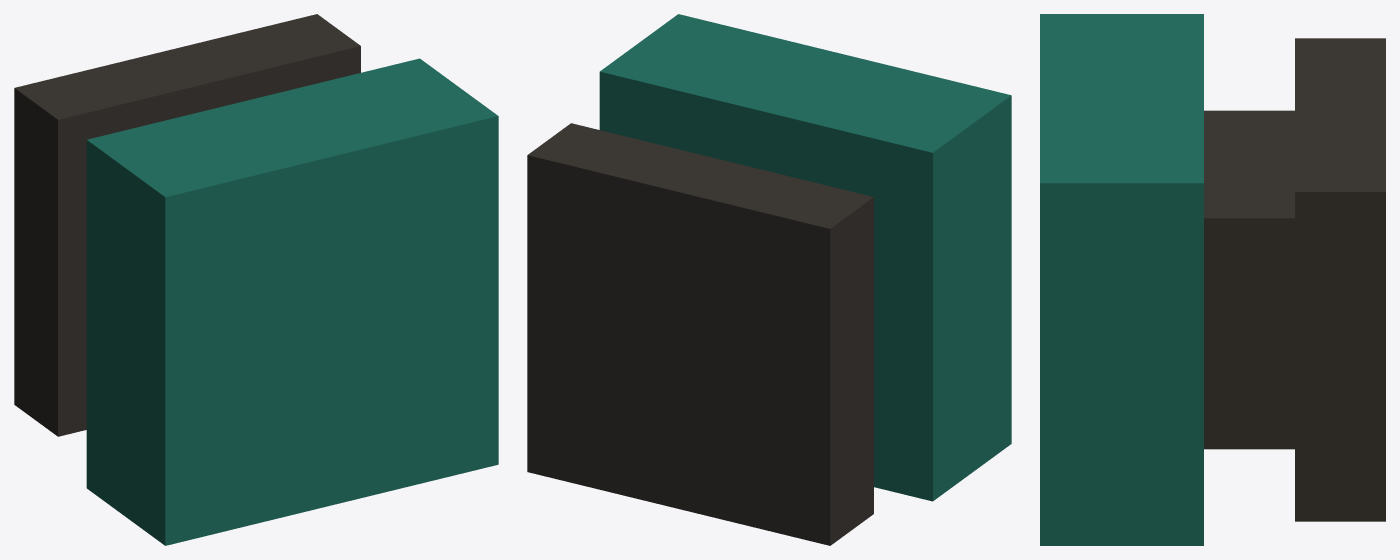
The model's file is SM_Sumerian_Fire_Bowl.obj.
3 renders of one model, left to right at view 1: azimuth 30°, elevation 25°; view 2: azimuth 150°, elevation 25°; view 3: azimuth 270°, elevation 25°, orthographic. The views are drawn at different scales.
Parts seen in each view (by area): view 1: PatinaBronze, DarkBasalt; view 2: DarkBasalt, PatinaBronze; view 3: PatinaBronze, DarkBasalt.
Boxes of the visible parts, x1=… form: PatinaBronze: x1=86, y1=58, x2=498, y2=545; DarkBasalt: x1=14, y1=14, x2=360, y2=436; DarkBasalt: x1=527, y1=123, x2=873, y2=545; PatinaBronze: x1=599, y1=14, x2=1011, y2=501; PatinaBronze: x1=1040, y1=14, x2=1203, y2=545; DarkBasalt: x1=1204, y1=38, x2=1385, y2=521.
Bounding box in the file's own units: 110 × 110 × 95.
